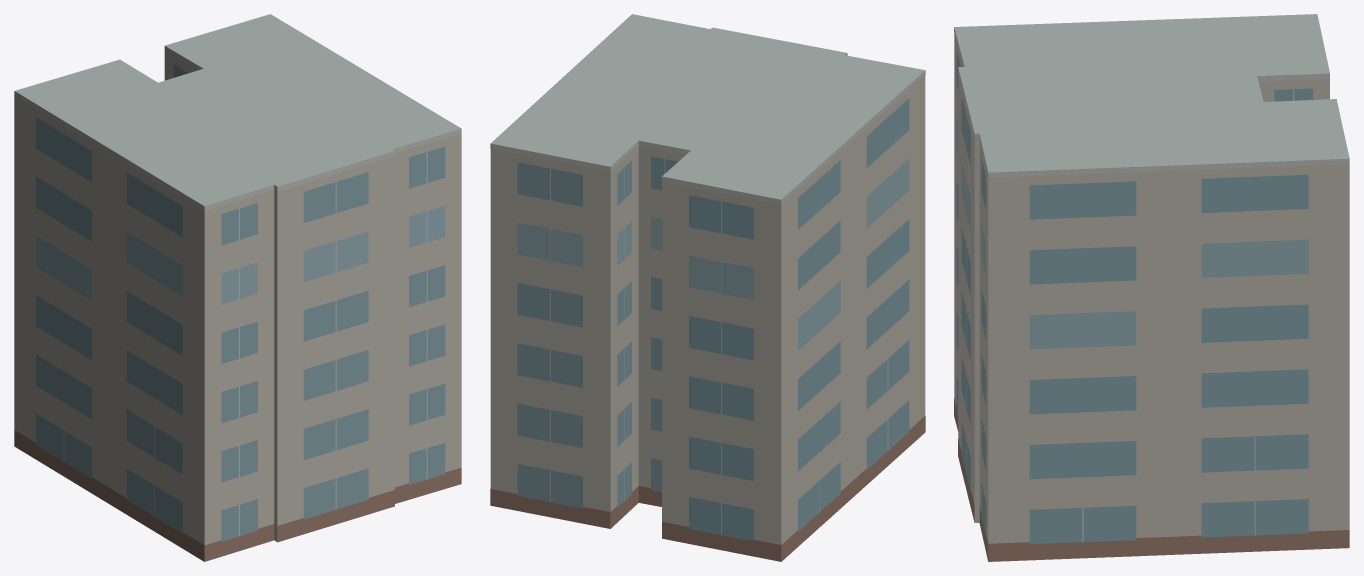
Rendered from survey-upis-32655291.glb.
3 renders of one model, left to right at view 1: azimuth 30°, elevation 25°; view 2: azimuth 150°, elevation 25°; view 3: azimuth 270°, elevation 25°, orthographic. The views are drawn at different scales.
Visible parts, largest first — view 1: survey-upis-32655291.tmp; view 2: survey-upis-32655291.tmp; view 3: survey-upis-32655291.tmp.
Boxes of the visible parts, box(x1,y1,x2,y2) form: survey-upis-32655291.tmp: box(14, 14, 461, 561); survey-upis-32655291.tmp: box(490, 14, 925, 561); survey-upis-32655291.tmp: box(954, 14, 1349, 561).
Size of the model in its own units: 15.38 by 17.6 by 16.21.
